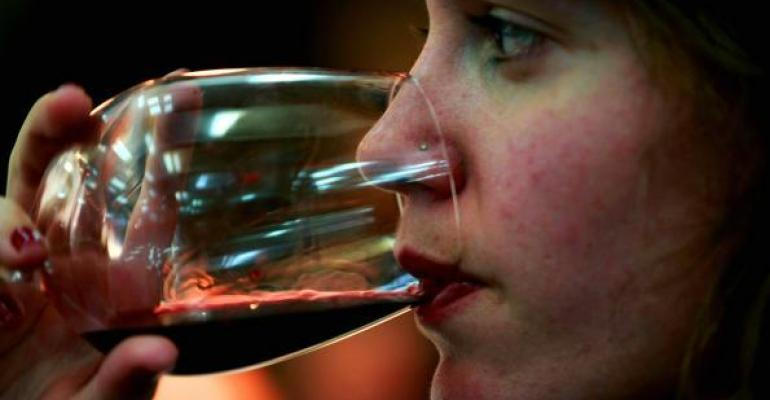drinking: (72, 9, 762, 358)
